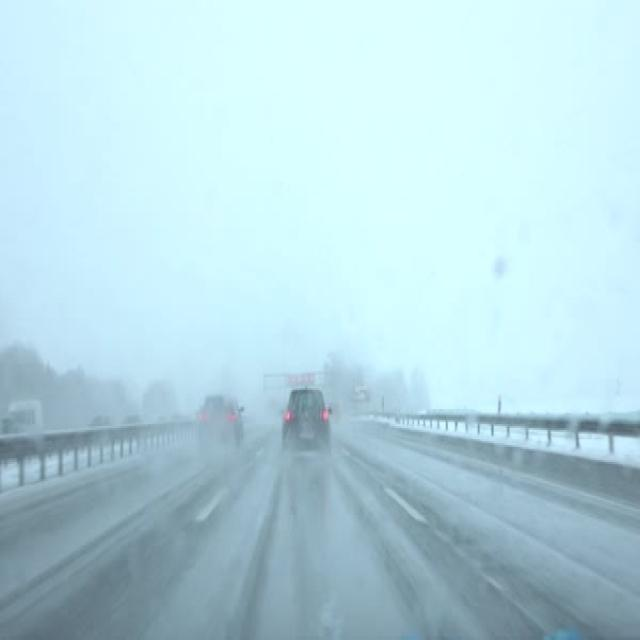car: (282, 386, 328, 453), (197, 394, 244, 447), (8, 401, 42, 432)
